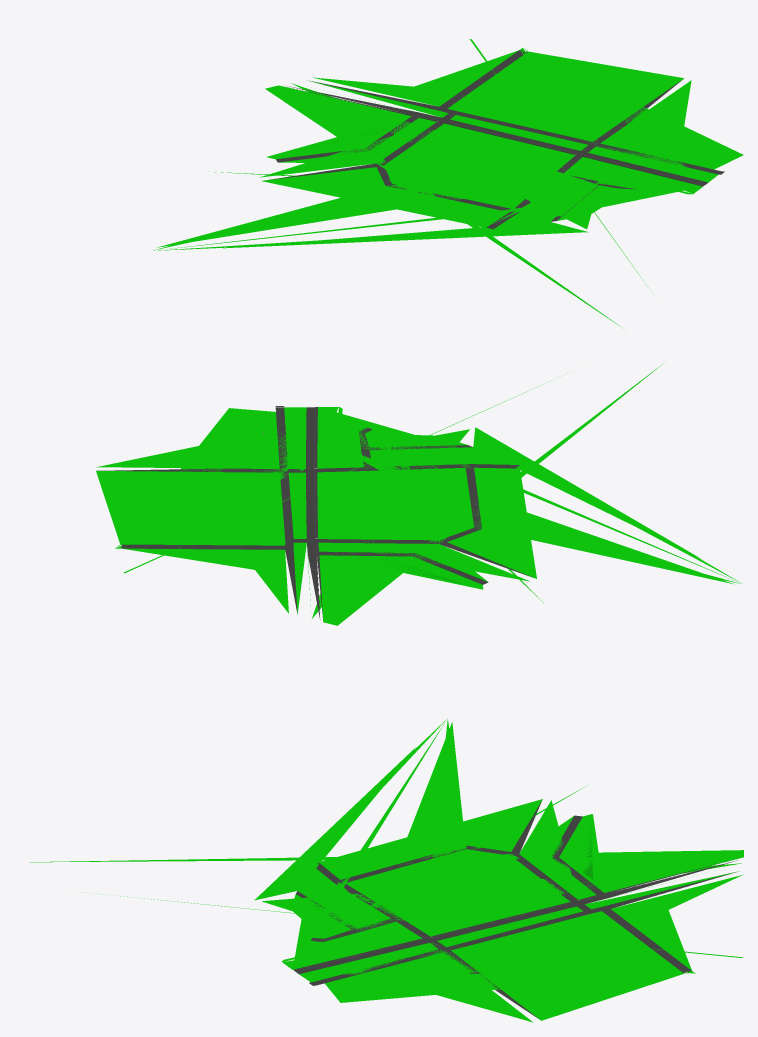
The picture shows the model from 3 angles, top to bottom: view 1: azimuth 30°, elevation 25°; view 2: azimuth 150°, elevation 25°; view 3: azimuth 270°, elevation 25°; orthographic projection. The views are drawn at different scales.
Bounding box in the file's own units: 286 × 2.3 × 290.
